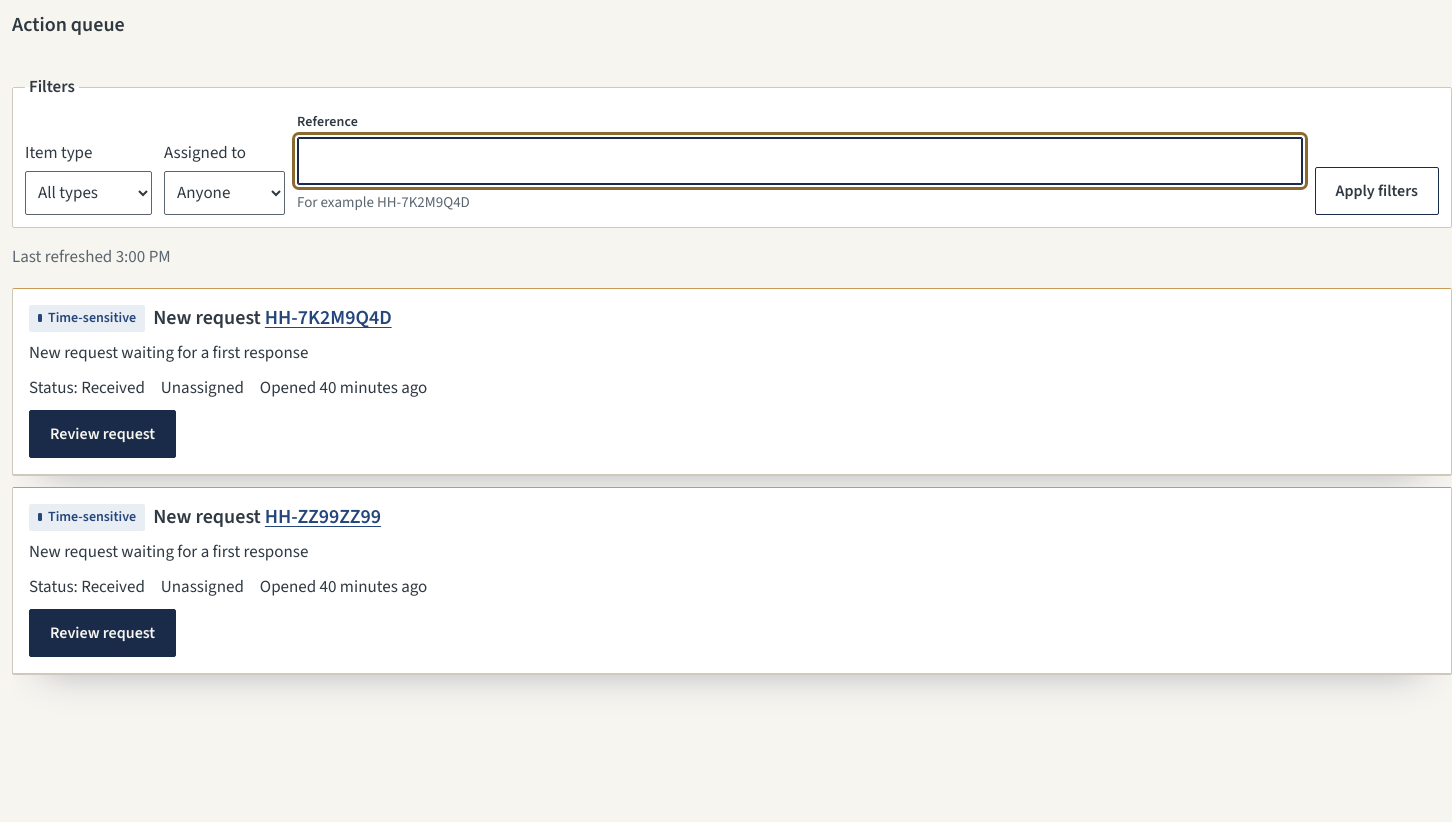
Scenario: the action queue screen (TSK-0041, HH-OPS-01, HH-OPS-02) › [HH-ARC-10][HH-OPS-01] a refresh updates items in place, keeps typed text and focus, and holds new items behind a button
Type "HH-UNSENT" into the field labelled "Reference".
click(800, 161); type("HH-UNSENT")  # box x1=297 y1=137 x2=1303 y2=185
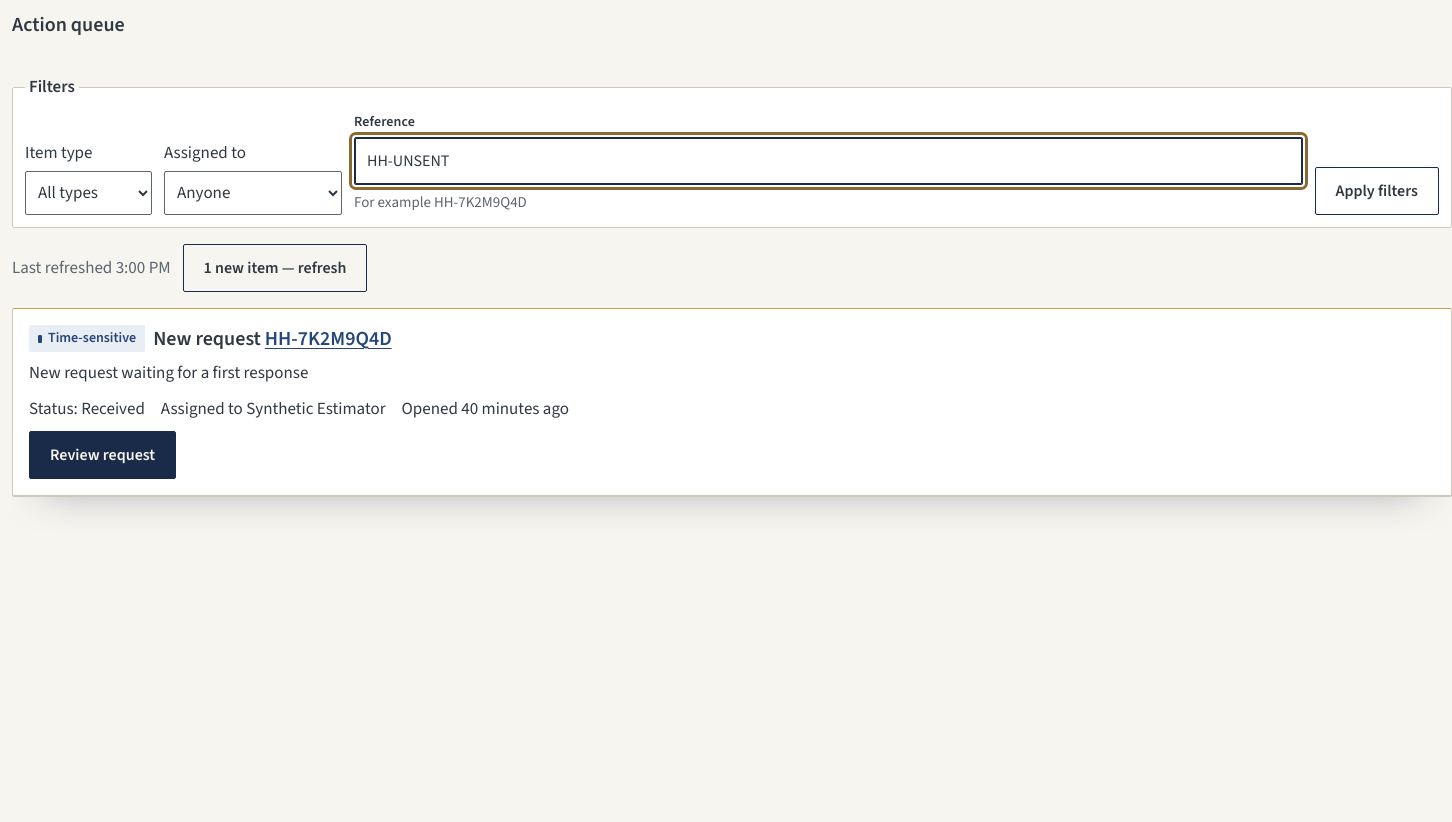
expect the text "HH-NEW00001" is not shown: met
expect the list item "Assigned to Synthetic Estimator" is shown: met, box x1=161 y1=396 x2=386 y2=423
expect the link "HH-ZZ99ZZ99" is gone: met
Click the button "1 new item — refresh".
click(275, 268)  # box x1=183 y1=244 x2=367 y2=292
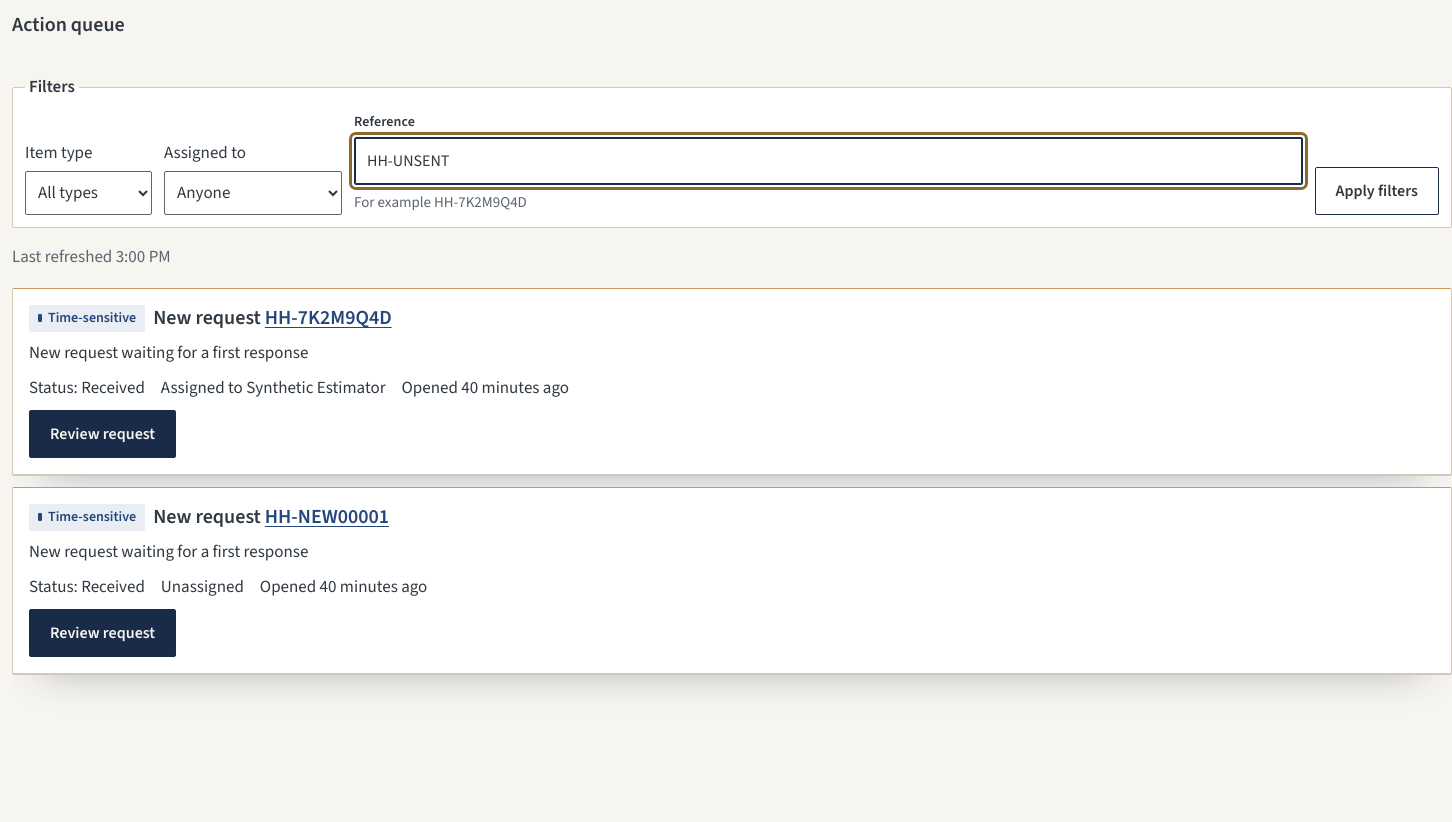
expect the link "HH-NEW00001" is shown: met, box x1=265 y1=503 x2=389 y2=531
